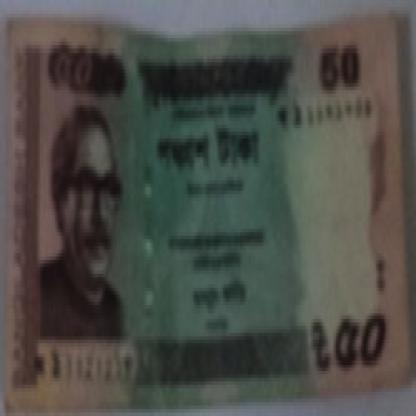Fifty taka: (306, 308, 393, 385), (53, 38, 115, 111)
